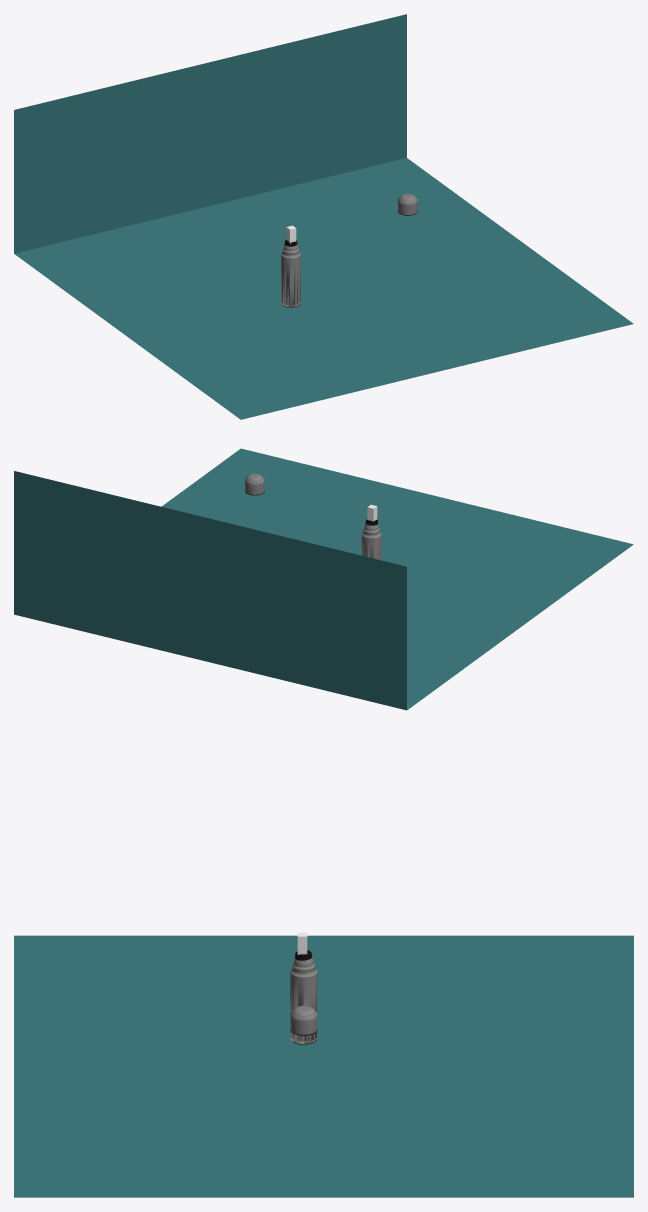
Rendered from flask.glb.
3 views of the same model, one above another, from view 1: azimuth 30°, elevation 25°; view 2: azimuth 150°, elevation 25°; view 3: azimuth 270°, elevation 25° (orthographic). The views are drawn at different scales.
Parts seen in each view (by area): view 1: Plane.001, Cylinder; view 2: Plane.001, Cylinder, Cylinder.001; view 3: Plane.001, Cylinder, Cylinder.001.
Boxes of the visible parts, x1,y1,x2,y2 form: Plane.001: (14, 14, 633, 419); Cylinder: (281, 244, 300, 307); Plane.001: (14, 448, 633, 710); Cylinder: (361, 523, 381, 560); Cylinder.001: (245, 473, 264, 495); Plane.001: (14, 935, 633, 1197); Cylinder: (290, 957, 317, 1045); Cylinder.001: (290, 1005, 317, 1035).
Size of the model in its own units: 29.17 by 10.28 by 29.17.
